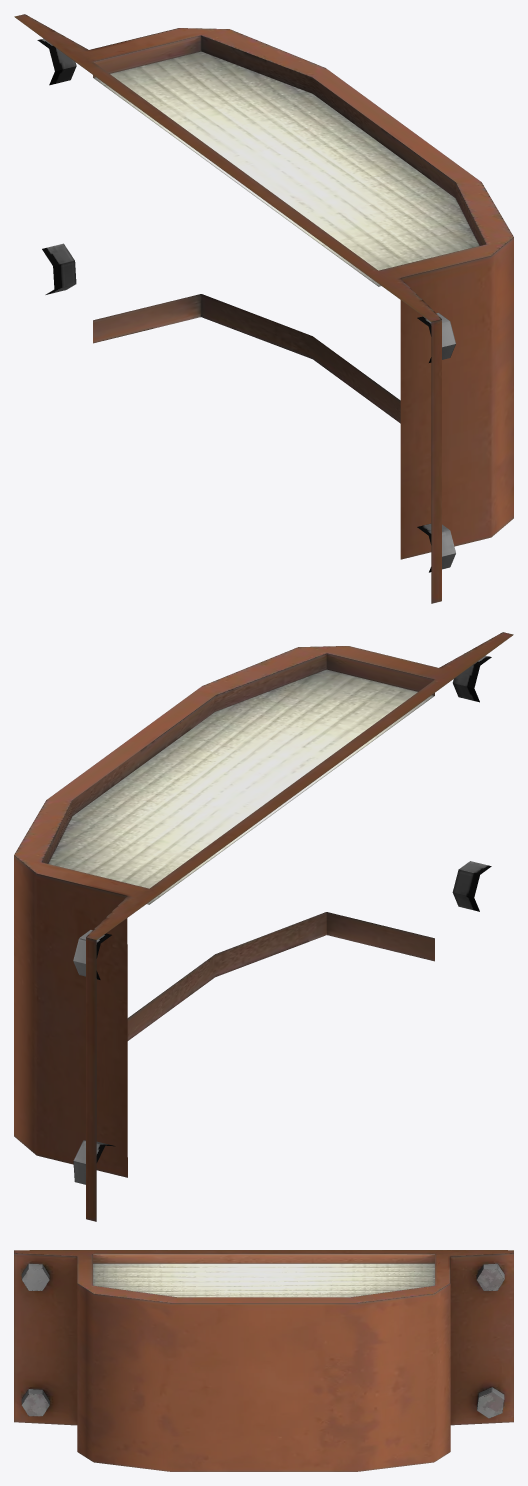
The picture shows the model from 3 angles, top to bottom: view 1: azimuth 30°, elevation 25°; view 2: azimuth 150°, elevation 25°; view 3: azimuth 270°, elevation 25°; orthographic projection. The views are drawn at different scales.
Parts seen in each view (by area): view 1: body0_model0_lod0_mesh0; view 2: body0_model0_lod0_mesh0; view 3: body0_model0_lod0_mesh0.
Boxes of the visible parts, left/top/right/bottom form: body0_model0_lod0_mesh0: left=14, top=14, right=513, bottom=603; body0_model0_lod0_mesh0: left=14, top=632, right=513, bottom=1221; body0_model0_lod0_mesh0: left=14, top=1250, right=513, bottom=1471.
Bounding box in the file's own units: 6.91 × 10.24 × 27.48.
1 material, 1 textured.
